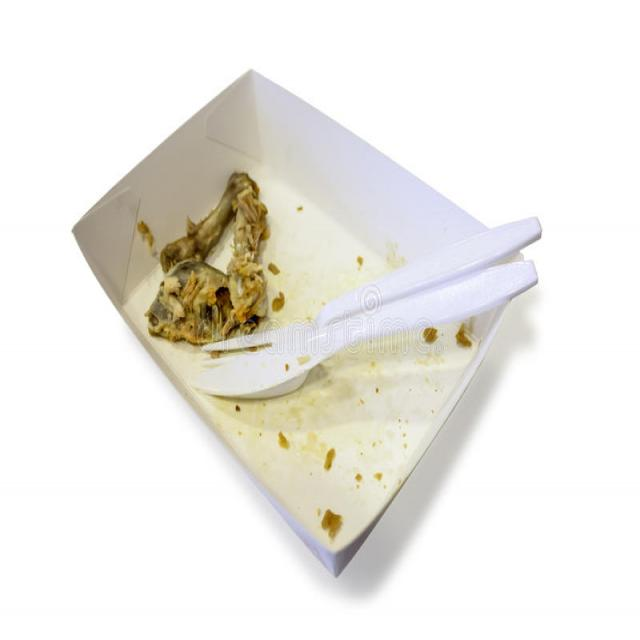Food Carton: (77, 73, 536, 564)
Food waste: (139, 182, 272, 344)
